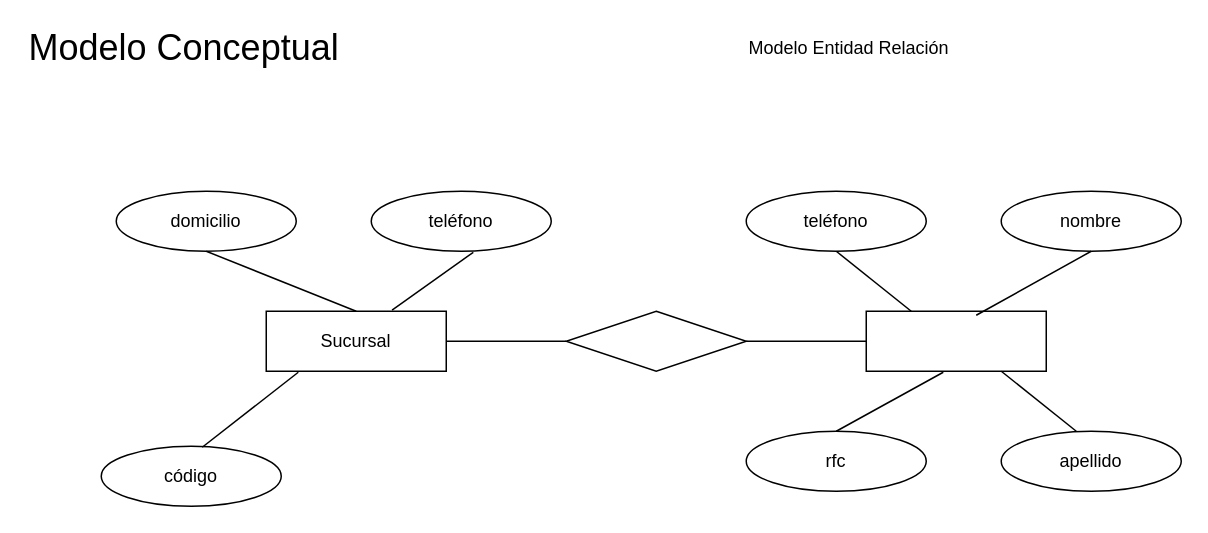
This 1208x533 diagram has some shape labels left out. Each missing label, with the centre of its shape:
Empleado: the point at 955,340
tiene: the point at 655,340
